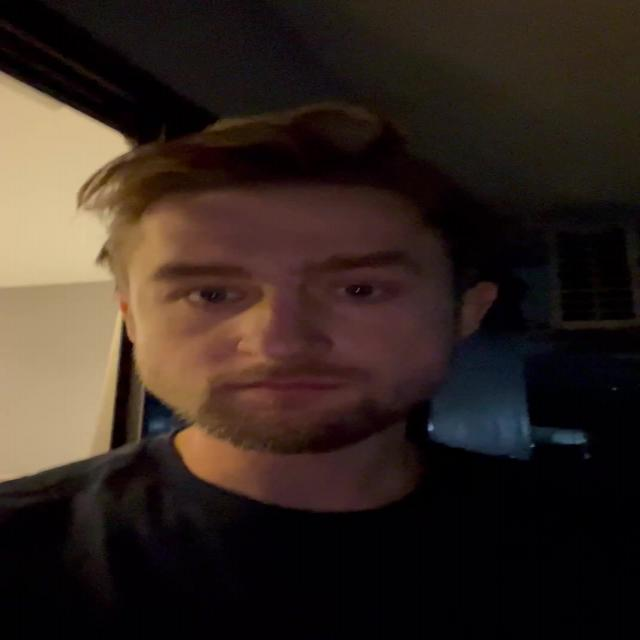earlobe: (452, 282, 498, 344), (111, 292, 138, 347)
